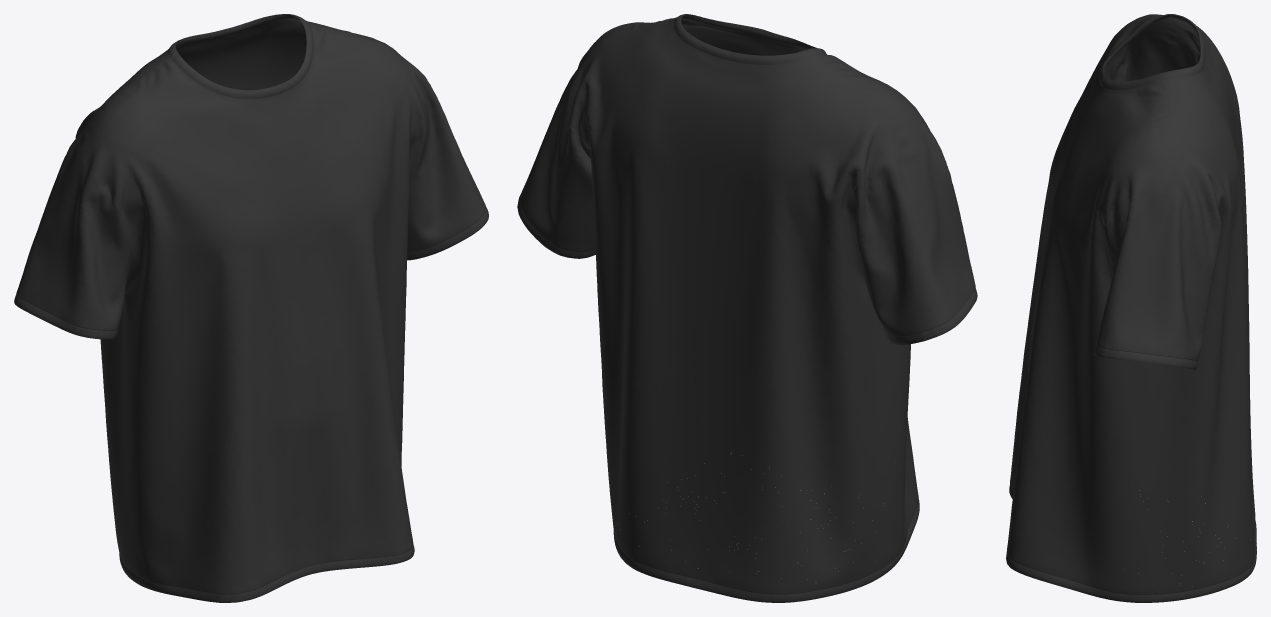
File: shirt.gltf
3 views of the same model, side by side, from view 1: azimuth 30°, elevation 25°; view 2: azimuth 150°, elevation 25°; view 3: azimuth 270°, elevation 25° (orthographic). The views are drawn at different scales.
Visible parts, largest first — view 1: Object_4, Object_3, Object_5, Object_2; view 2: Object_4, Object_5, Object_3, Object_2; view 3: Object_4, Object_3, Object_5, Object_2.
Part boxes in pixels (bbox=[...]): Object_4: bbox=[16, 20, 426, 594]; Object_3: bbox=[75, 14, 488, 577]; Object_5: bbox=[95, 20, 343, 558]; Object_2: bbox=[14, 207, 488, 602]; Object_4: bbox=[569, 18, 975, 594]; Object_5: bbox=[574, 30, 896, 583]; Object_3: bbox=[518, 14, 939, 594]; Object_2: bbox=[517, 194, 977, 602]; Object_4: bbox=[1006, 14, 1255, 594]; Object_3: bbox=[1010, 14, 1250, 594]; Object_5: bbox=[1122, 18, 1254, 593]; Object_2: bbox=[1006, 346, 1256, 602].
Size of the model in its own units: 0.637 by 0.7108 by 0.3212.
Materials: 1 (1 with a texture image).
